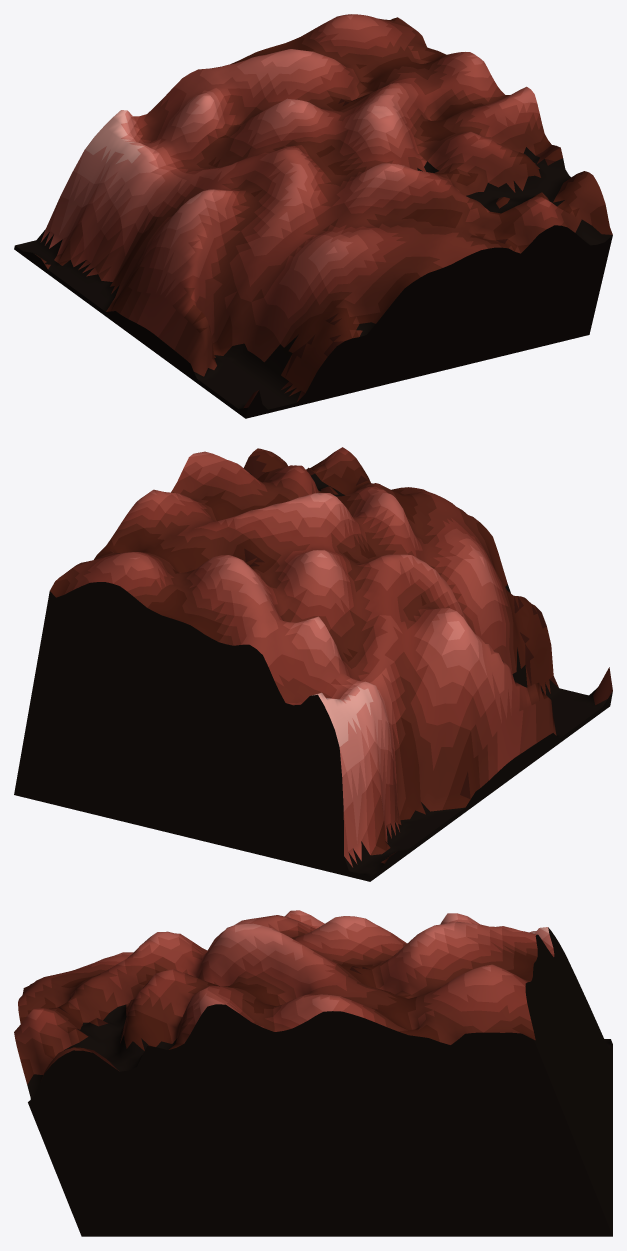
Rendered from brain_mid_3.glb.
The picture shows the model from 3 angles, top to bottom: view 1: azimuth 30°, elevation 25°; view 2: azimuth 150°, elevation 25°; view 3: azimuth 270°, elevation 25°; orthographic projection. The views are drawn at different scales.
Parts seen in each view (by area): view 1: brain_mid_3; view 2: brain_mid_3; view 3: brain_mid_3.
Boxes of the visible parts, x1,y1,x2,y2 form: brain_mid_3: (14,14,612,418); brain_mid_3: (14,447,612,881); brain_mid_3: (14,910,612,1236).
Size of the model in its own units: 24 by 13.72 by 31.57.
